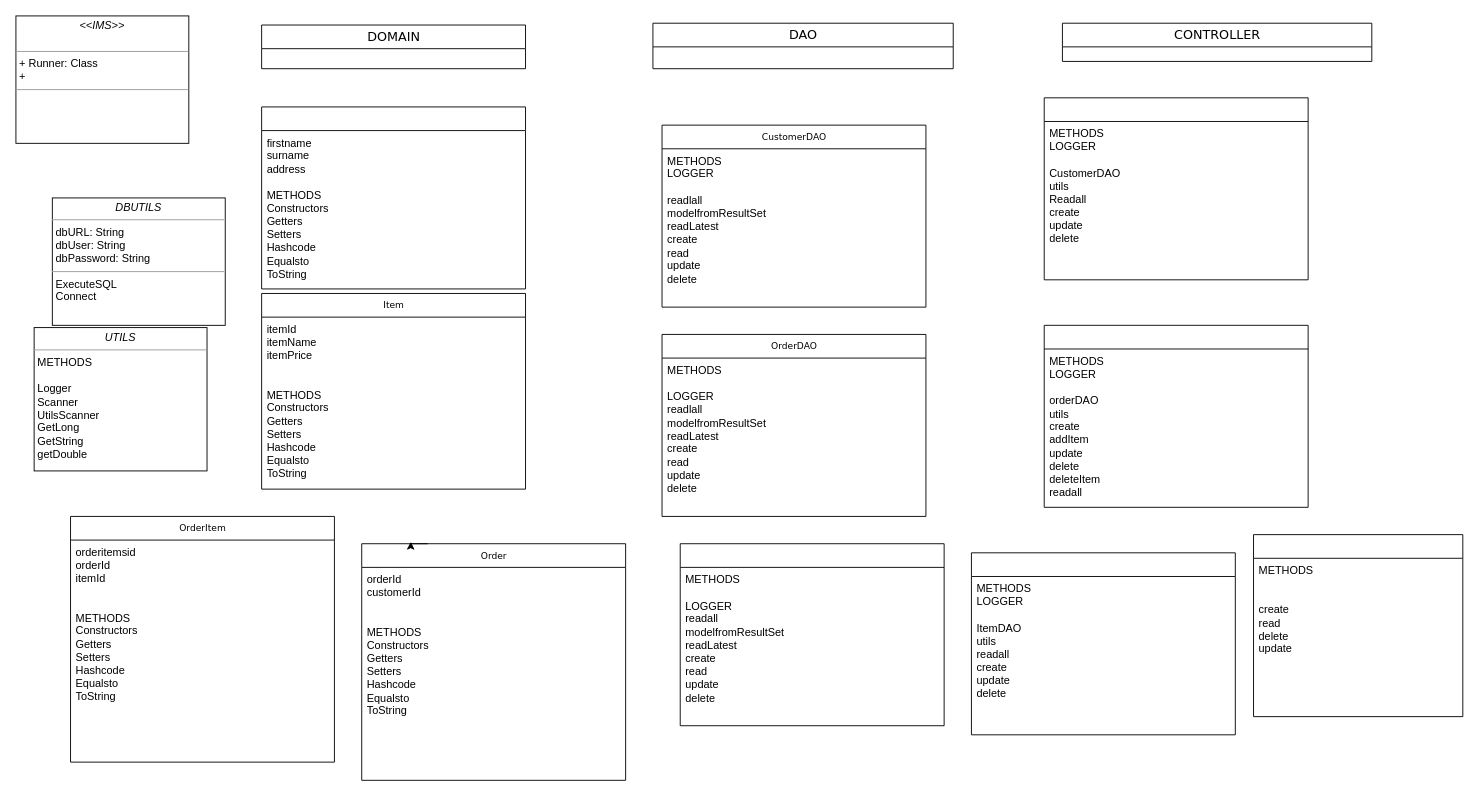
Some shapes in this 1479 by 799 pixel diagram are drawn without their labels. Each missing label, with the box of its shape:
CRUDCONTROLLER: (1253, 534, 1463, 717)
Customer: (261, 106, 526, 289)
CustomerController: (1043, 97, 1308, 280)
ItemController: (971, 552, 1235, 735)
ItemDAO: (679, 543, 944, 726)
OrderController: (1043, 324, 1308, 507)
